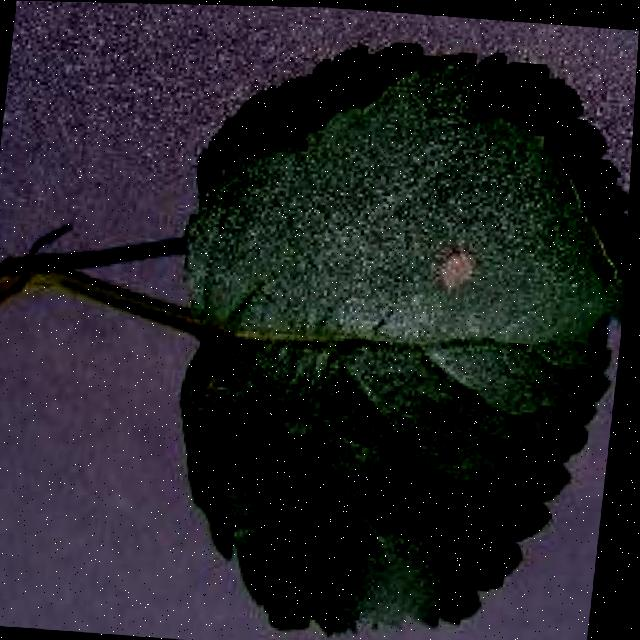black_rot: (423, 234, 492, 309)
